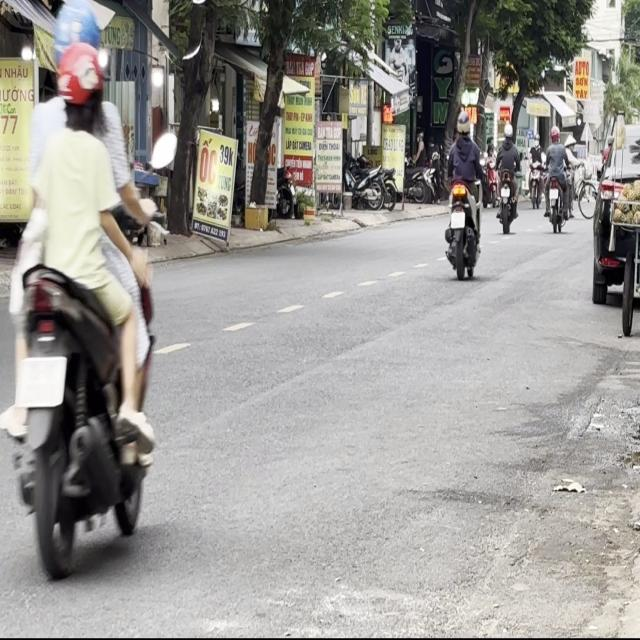helmet: (56, 42, 109, 132), (49, 0, 111, 72)
licenseplate: (0, 1, 162, 580)
nohelmet: (16, 353, 67, 406)
